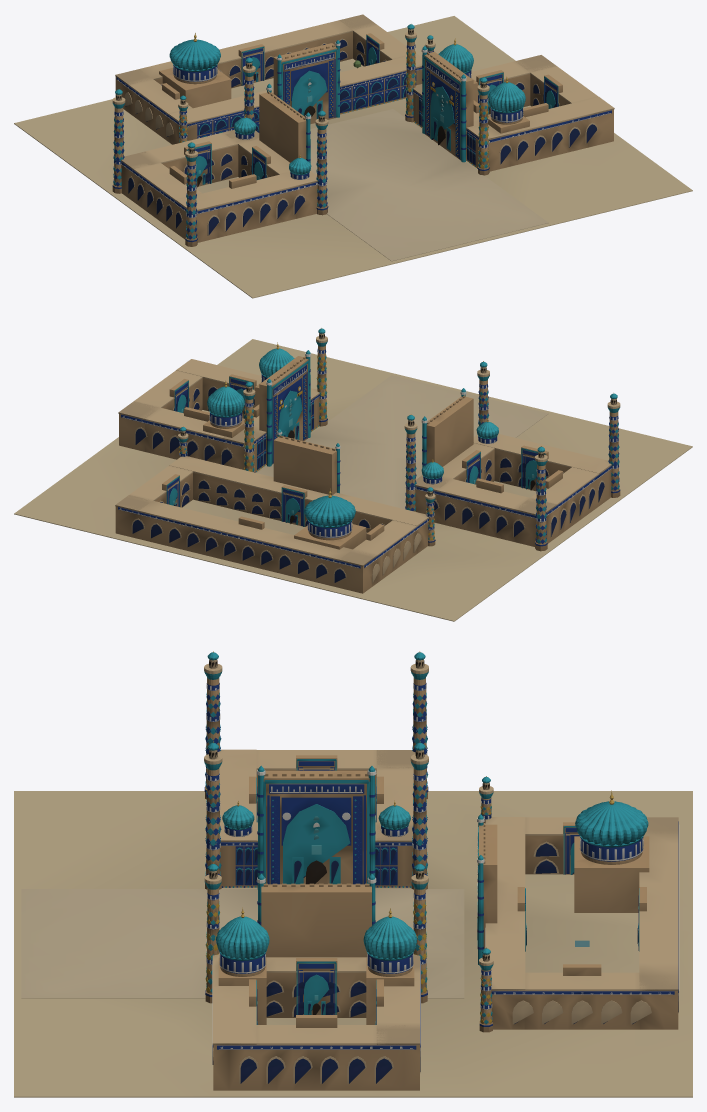
Rendered from registan-1650.glb.
3 views of the same model, one above another, from view 1: azimuth 30°, elevation 25°; view 2: azimuth 150°, elevation 25°; view 3: azimuth 270°, elevation 25° (orthographic). The views are drawn at different scales.
Visible parts, largest first — view 1: p0_square, p2_tilya-kori, p1_ulugh beg madrasa; view 2: p2_tilya-kori, p0_square, p1_ulugh beg madrasa; view 3: p0_square, p2_tilya-kori, p1_ulugh beg madrasa.
Boxes of the visible parts, x1,y1,x2,y2 form: p0_square: (14, 16, 692, 298); p2_tilya-kori: (115, 14, 614, 175); p1_ulugh beg madrasa: (112, 57, 328, 246); p2_tilya-kori: (115, 328, 435, 593); p0_square: (14, 339, 692, 621); p1_ulugh beg madrasa: (404, 361, 620, 551); p0_square: (14, 791, 692, 1097); p2_tilya-kori: (204, 776, 679, 1090); p1_ulugh beg madrasa: (204, 651, 428, 889).
Size of the model in its own units: 196 by 44.34 by 184.
